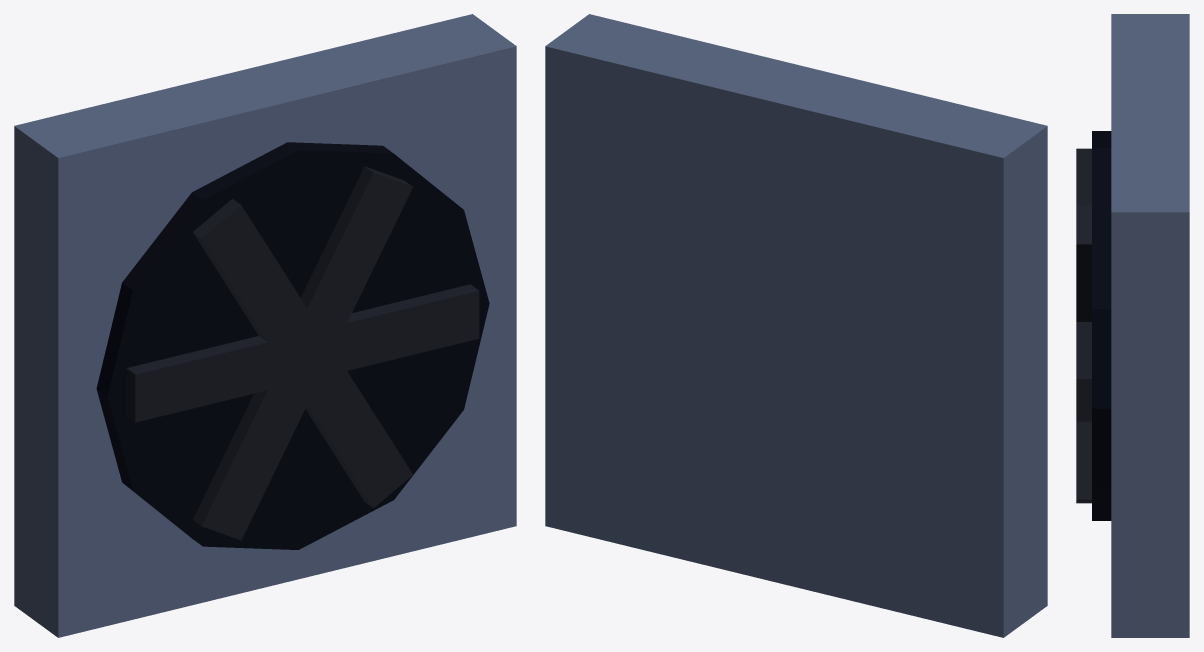
Rendered from vent_fan.obj.
3 renders of one model, left to right at view 1: azimuth 30°, elevation 25°; view 2: azimuth 150°, elevation 25°; view 3: azimuth 270°, elevation 25°, orthographic. The views are drawn at different scales.
Parts seen in each view (by area): view 1: vent_fan; view 2: vent_fan; view 3: vent_fan.
Boxes of the visible parts, x1,y1,x2,y2 form: vent_fan: (14, 14, 516, 637); vent_fan: (545, 14, 1047, 637); vent_fan: (1076, 14, 1189, 637).
Size of the model in its own units: 1.2 by 1.2 by 0.29.
